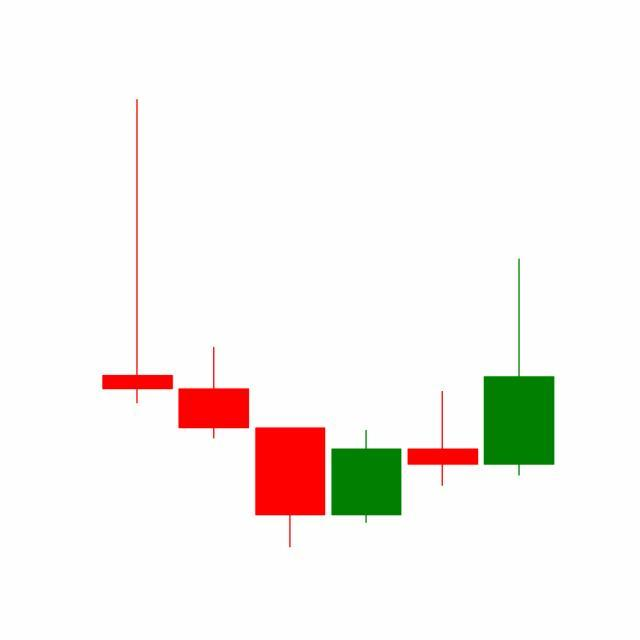Spinning Top: (404, 390, 482, 488)
